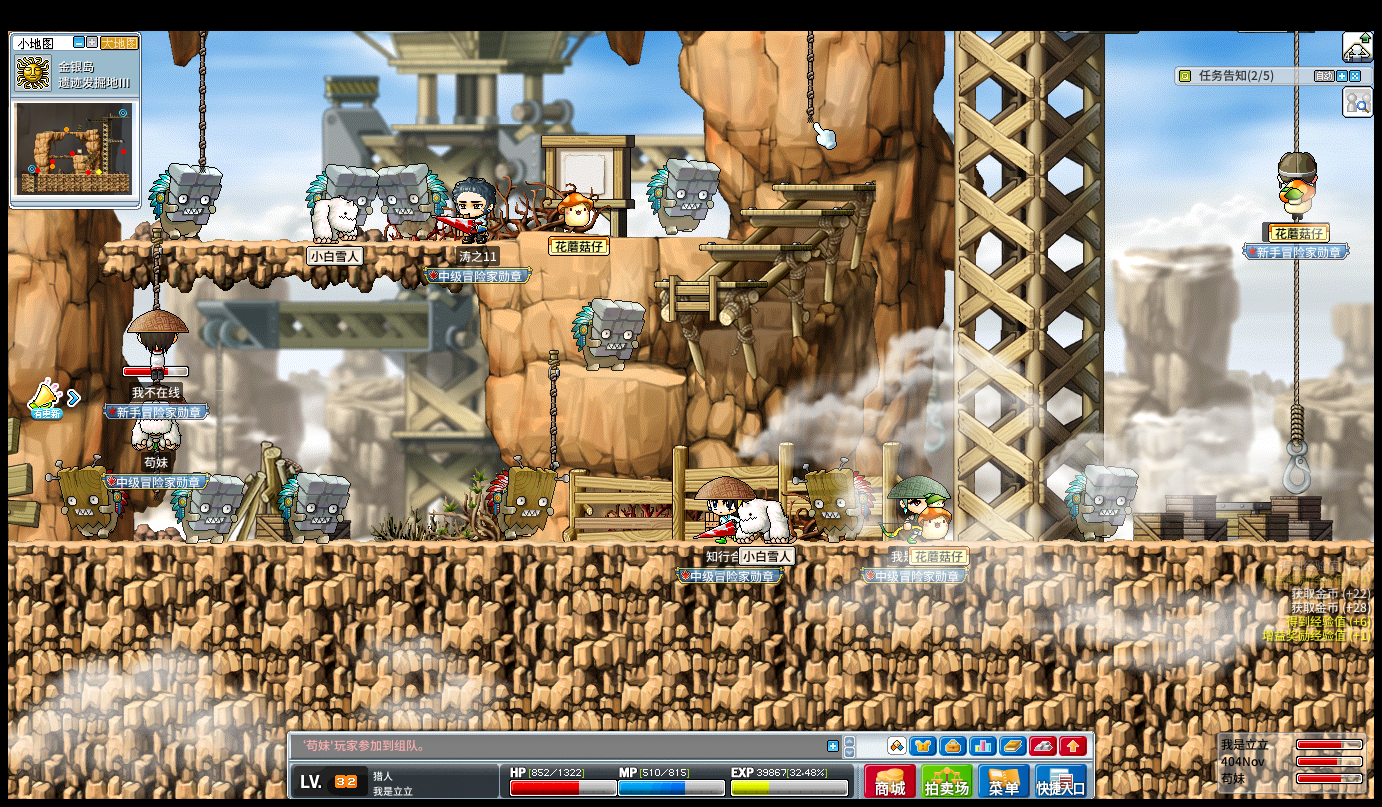floor: (8, 538, 1373, 550), (102, 237, 485, 249), (582, 366, 685, 386), (653, 279, 768, 288), (607, 234, 738, 241), (740, 208, 854, 216), (772, 183, 874, 191), (698, 243, 813, 250)
monster: (485, 455, 570, 540), (793, 457, 876, 543), (45, 454, 129, 538), (148, 163, 223, 240), (1065, 464, 1139, 541), (647, 158, 721, 234), (277, 472, 352, 544), (572, 299, 646, 371), (170, 474, 245, 544), (378, 166, 448, 239), (306, 164, 380, 198)
rope: (549, 350, 559, 468), (198, 31, 206, 174), (1294, 31, 1300, 154), (152, 228, 161, 310), (1294, 261, 1299, 405), (807, 31, 814, 124), (1290, 407, 1305, 443)
